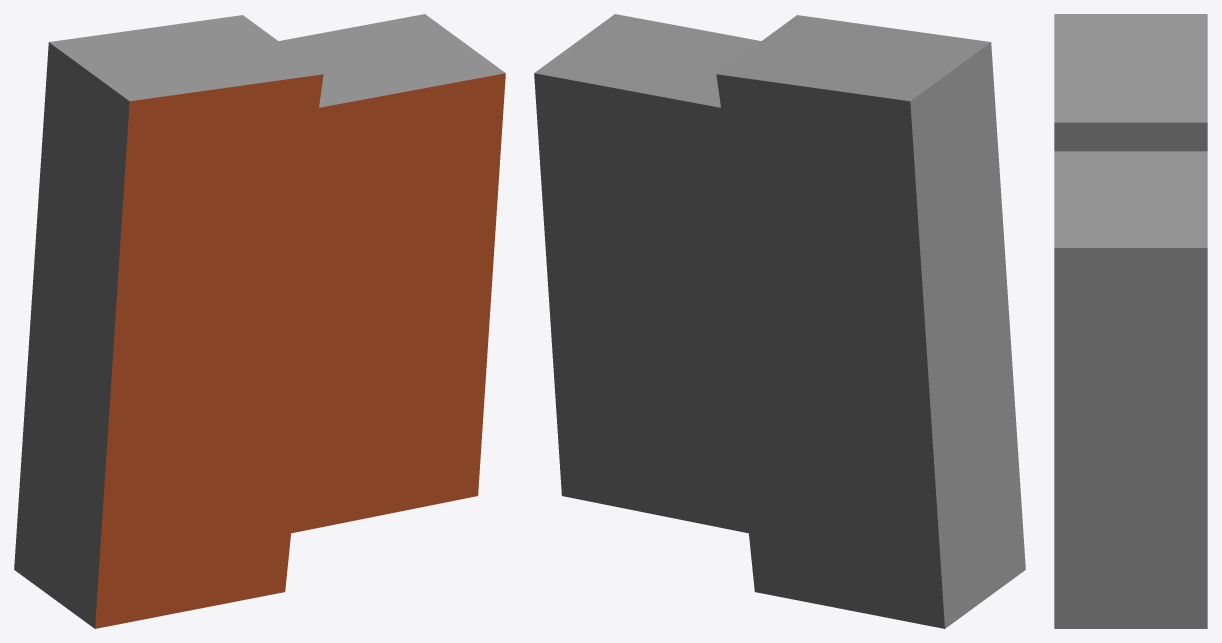
Rendered from construction_4952_assumed_A_Casa_h6m.obj.
3 views of the same model, side by side, from view 1: azimuth 30°, elevation 25°; view 2: azimuth 150°, elevation 25°; view 3: azimuth 270°, elevation 25° (orthographic). The views are drawn at different scales.
Visible parts, largest first — view 1: construction_4952_assumed_A_Casa; view 2: construction_4952_assumed_A_Casa; view 3: construction_4952_assumed_A_Casa.
Boxes of the visible parts, left/top/right/bottom form: construction_4952_assumed_A_Casa: left=14, top=14, right=505, bottom=628; construction_4952_assumed_A_Casa: left=534, top=14, right=1025, bottom=628; construction_4952_assumed_A_Casa: left=1054, top=14, right=1207, bottom=628.
Bounding box in the file's own units: 17.6 × 21.64 × 6.
